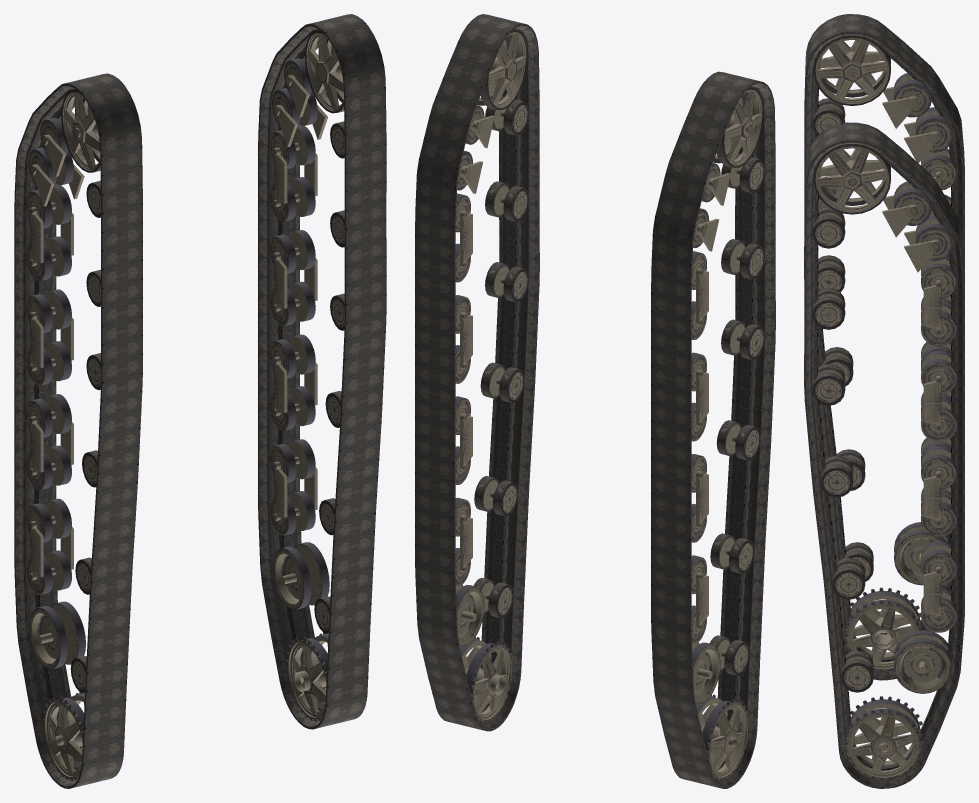
Rendered from Chassis.glb.
The picture shows the model from 3 angles, left to right: view 1: azimuth 30°, elevation 25°; view 2: azimuth 150°, elevation 25°; view 3: azimuth 270°, elevation 25°; orthographic projection. The views are drawn at different scales.
Visible parts, largest first — view 1: set_5_group_0, set_4_group_0, set_1_group_0, set_3_group_0, set_0_group_0, set_2_group_0; view 2: set_4_group_0, set_5_group_0, set_1_group_0, set_3_group_0, set_2_group_0, set_0_group_0; view 3: set_1_group_0, set_4_group_0, set_3_group_0, set_5_group_0, set_0_group_0.
Part boxes in pixels (box(x1,y1,x2,y2)): set_5_group_0: box(14, 73, 142, 788); set_4_group_0: box(258, 14, 386, 729); set_1_group_0: box(269, 30, 344, 721); set_3_group_0: box(25, 90, 101, 780); set_0_group_0: box(274, 258, 317, 412); set_2_group_0: box(30, 317, 73, 472); set_4_group_0: box(415, 14, 539, 731); set_5_group_0: box(651, 71, 775, 788); set_1_group_0: box(455, 30, 528, 723); set_3_group_0: box(691, 88, 765, 781); set_2_group_0: box(696, 372, 708, 525); set_0_group_0: box(460, 315, 472, 468); set_1_group_0: box(812, 144, 956, 780); set_4_group_0: box(804, 122, 964, 788); set_3_group_0: box(812, 35, 956, 672); set_5_group_0: box(804, 14, 964, 680); set_0_group_0: box(923, 380, 941, 520).
Bounding box in the file's own units: 2.61 × 6.18 × 1.39.
Materials: 6 (6 with a texture image).
